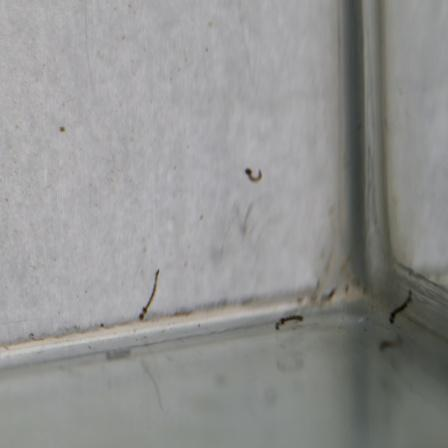Jentik-Nyamuk: (137, 267, 164, 323), (384, 286, 415, 329), (273, 309, 307, 336)
